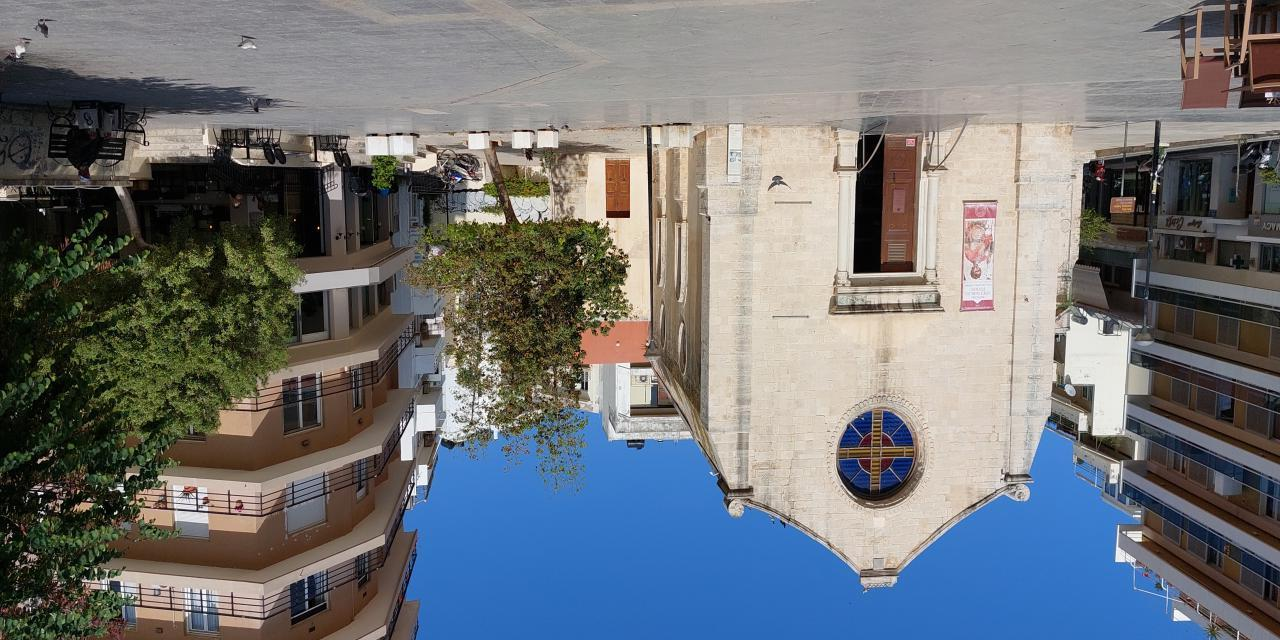Agia Aikaterini: (645, 115, 1089, 591)
